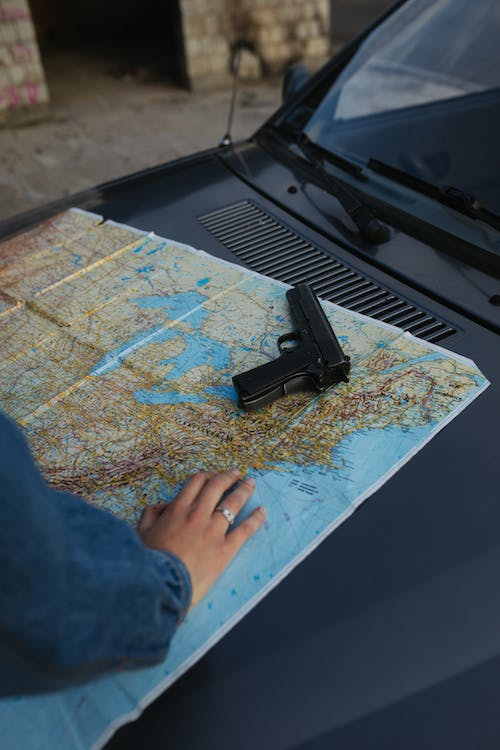gun: (229, 281, 352, 415)
